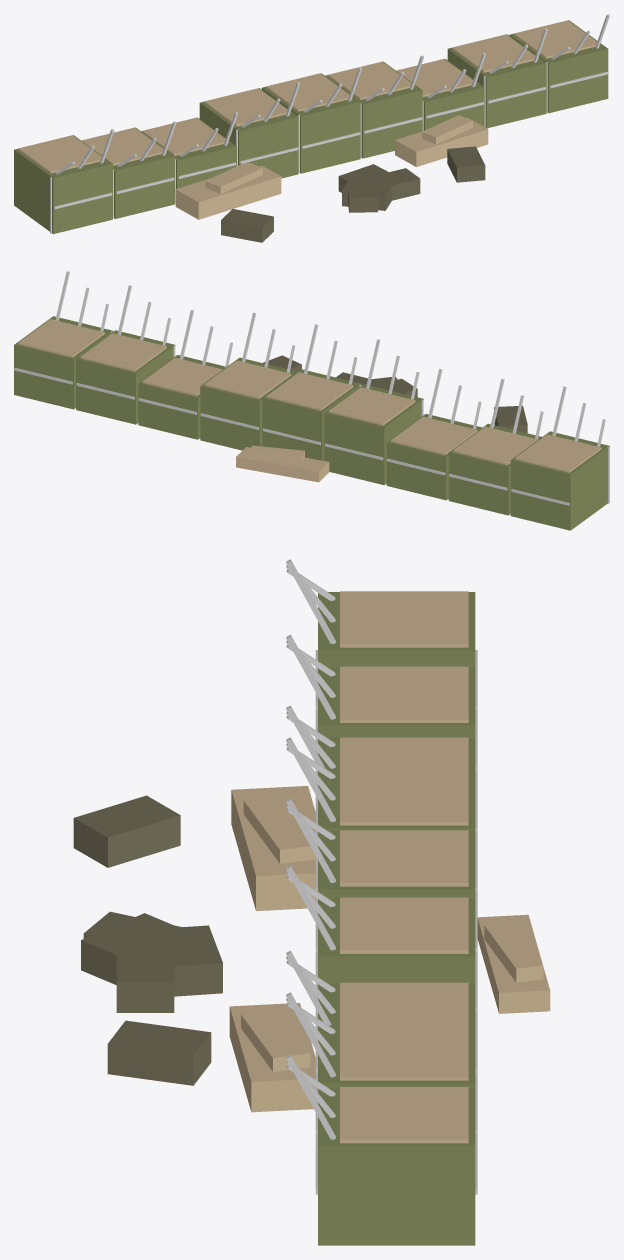
File: SM_MuroHesco_v3_RemateSacos_e2_MuyDanado_LOD0.fbx
3 views of the same model, one above another, from view 1: azimuth 30°, elevation 25°; view 2: azimuth 150°, elevation 25°; view 3: azimuth 270°, elevation 25° (orthographic). The views are drawn at different scales.
Parts seen in each view (by area): view 1: SM_bloques.muro_hesco_estados_v14_LOD0; view 2: SM_bloques.muro_hesco_estados_v14_LOD0; view 3: SM_bloques.muro_hesco_estados_v14_LOD0.
Boxes of the visible parts, x1=… form: SM_bloques.muro_hesco_estados_v14_LOD0: x1=14, y1=14, x2=609, y2=242; SM_bloques.muro_hesco_estados_v14_LOD0: x1=14, y1=271, x2=609, y2=530; SM_bloques.muro_hesco_estados_v14_LOD0: x1=73, y1=559, x2=550, y2=1245.
Size of the model in its own units: 9.98 by 1.7 by 3.7.
